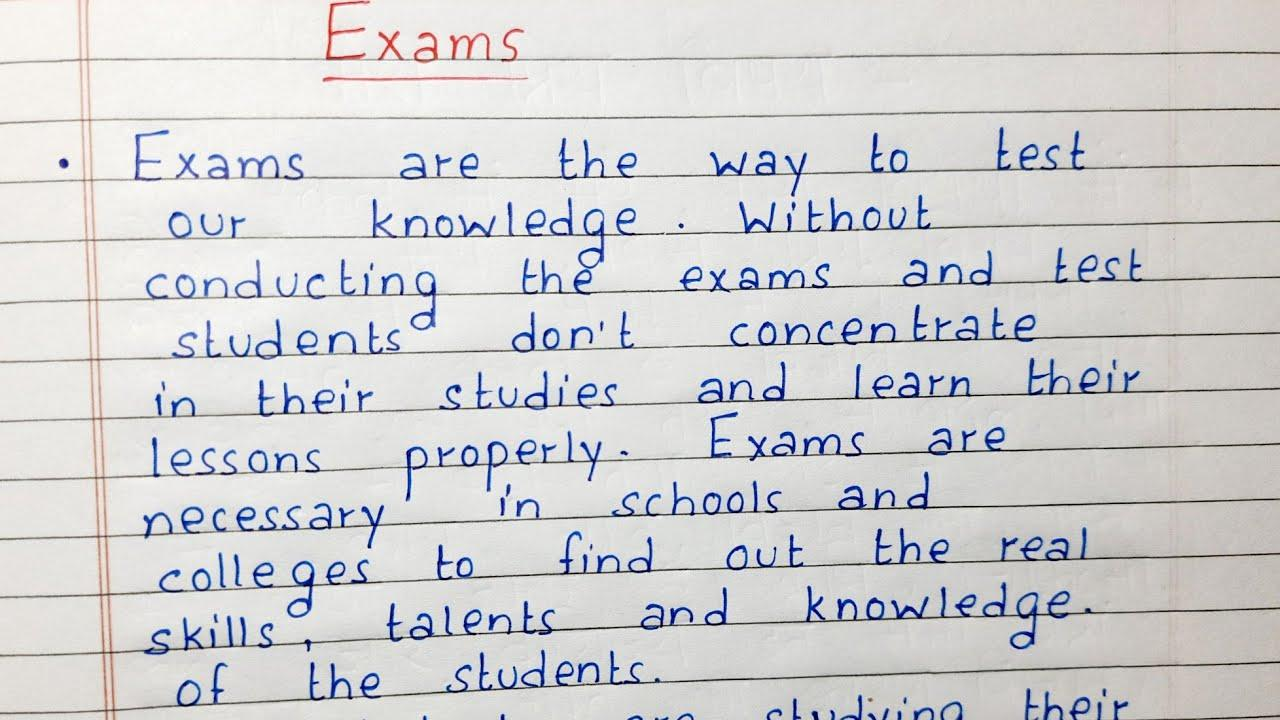text: (158, 522, 1090, 622), (148, 403, 1008, 508), (142, 246, 1148, 333), (135, 577, 1093, 663), (129, 120, 1087, 201), (140, 466, 933, 555), (151, 352, 1143, 421), (163, 193, 934, 269), (169, 298, 1041, 364), (172, 646, 659, 712), (322, 0, 532, 65), (761, 686, 1133, 718)
